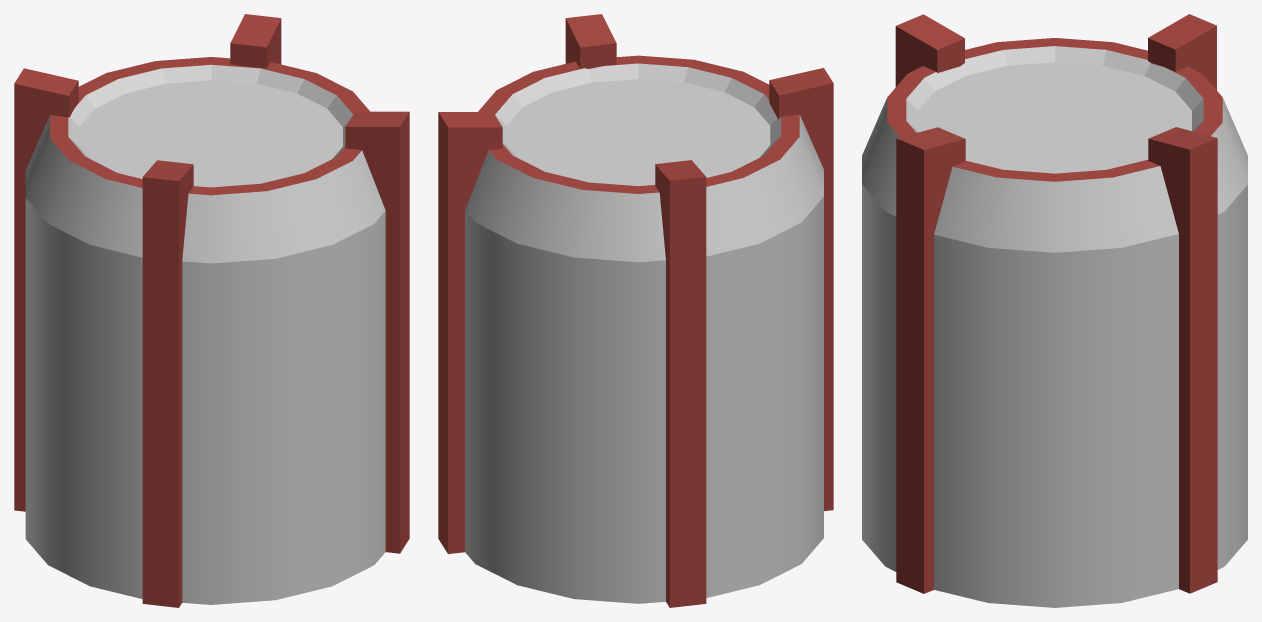
The model's file is WhiteChip.FBX.
3 views of the same model, side by side, from view 1: azimuth 30°, elevation 25°; view 2: azimuth 150°, elevation 25°; view 3: azimuth 270°, elevation 25° (orthographic). The views are drawn at different scales.
Visible parts, largest first — view 1: Cylinder001, Box003, Box004, Box002, Box001; view 2: Cylinder001, Box002, Box001, Box003, Box004; view 3: Cylinder001, Box001, Box004, Box003, Box002.
Part boxes in pixels (x1,y1,x2,y2): Cylinder001: [25, 57, 385, 604]; Box003: [142, 160, 193, 607]; Box004: [345, 111, 409, 553]; Box002: [14, 68, 78, 511]; Box001: [230, 14, 281, 68]; Cylinder001: [465, 55, 823, 603]; Box002: [655, 160, 706, 607]; Box001: [438, 112, 502, 553]; Box003: [769, 68, 833, 511]; Box004: [565, 14, 616, 68]; Cylinder001: [862, 38, 1247, 607]; Box001: [1148, 127, 1217, 593]; Box004: [896, 127, 965, 593]; Box003: [895, 14, 964, 86]; Box002: [1148, 14, 1216, 89].
Size of the model in its own units: 20 by 25 by 19.7.
